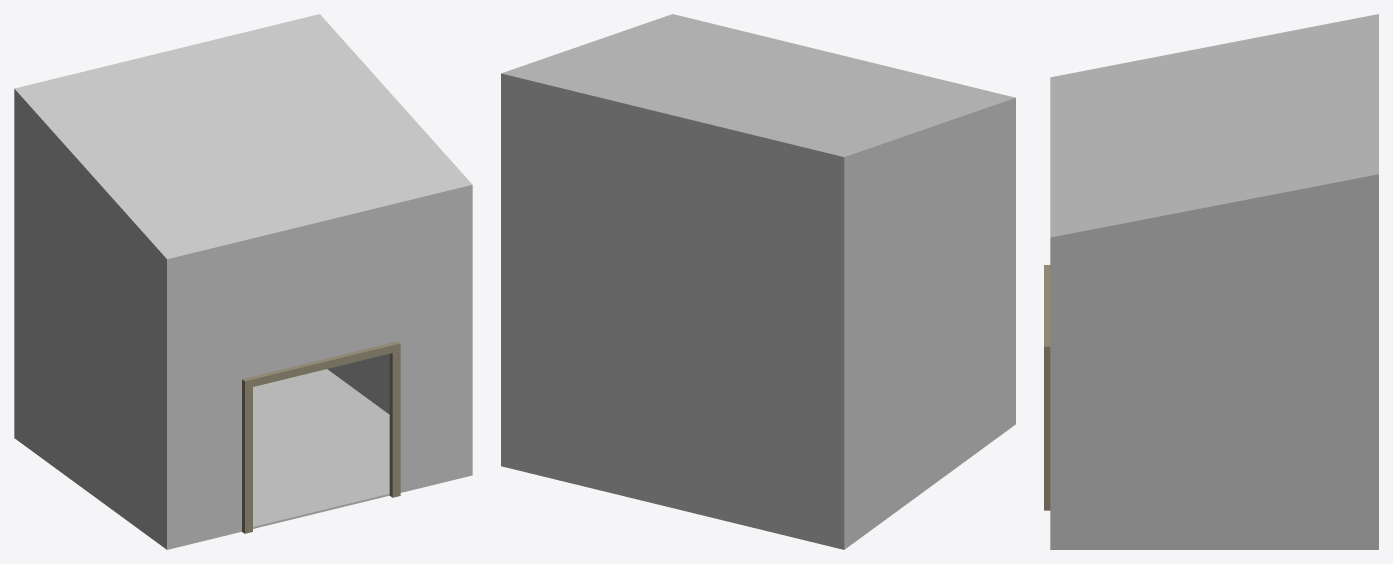
File: house-white.glb
The picture shows the model from 3 angles, left to right: view 1: azimuth 30°, elevation 25°; view 2: azimuth 150°, elevation 25°; view 3: azimuth 270°, elevation 25°; orthographic projection. The views are drawn at different scales.
Parts seen in each view (by area): view 1: Cube032; view 2: Cube032; view 3: Cube032.
Part boxes in pixels (x1,y1,x2,y2): Cube032: (14, 14, 472, 549); Cube032: (501, 14, 1015, 549); Cube032: (1044, 14, 1378, 549).
Size of the model in its own units: 270 by 295 by 238.
Materials: 2 (1 with a texture image).
